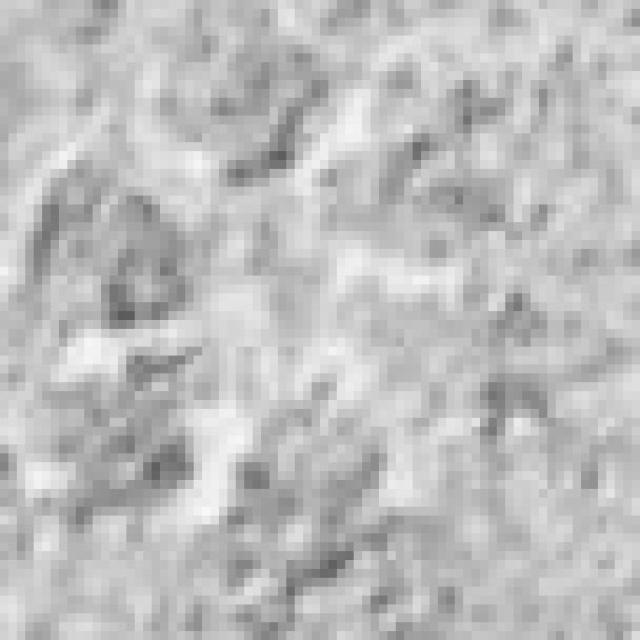inner: (212, 165, 472, 397)
lobe: (217, 373, 402, 640), (363, 37, 574, 238), (23, 343, 225, 545), (8, 151, 215, 348), (423, 275, 635, 444), (160, 6, 340, 194)
outer: (0, 0, 640, 640)
